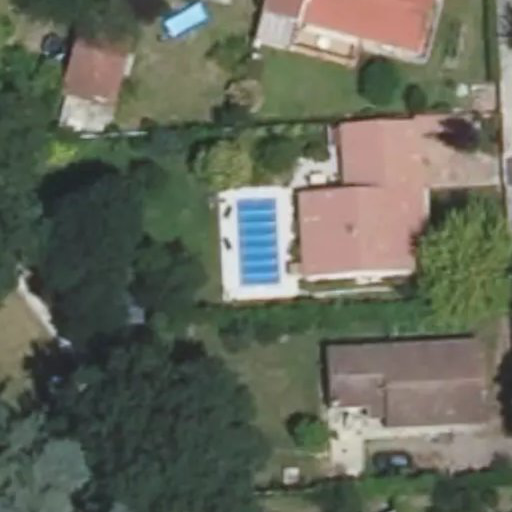pool: (232, 197, 279, 285)
